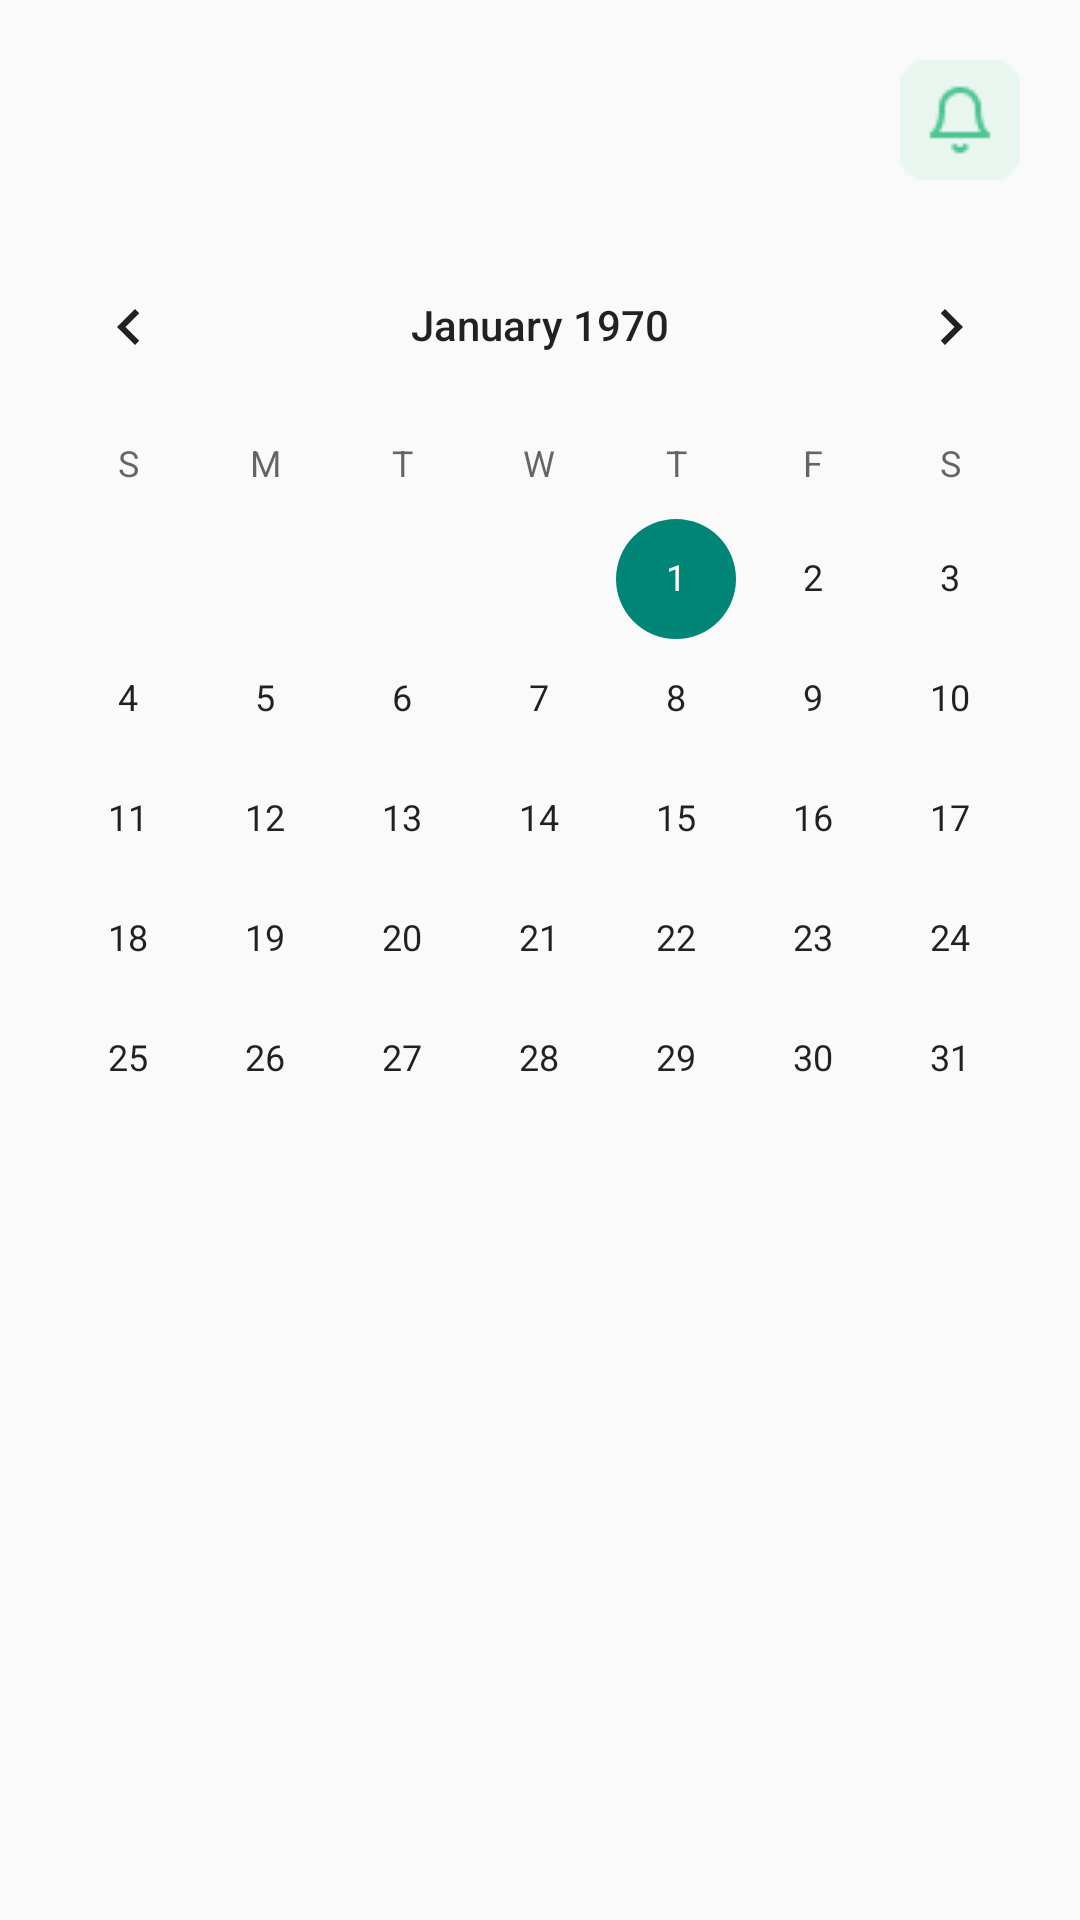

Named icons in this screenshot (1080×1920) and their centers, [x,y]:
notify: [960,120]
